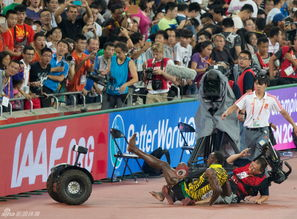10+: (1, 1, 297, 210)
down: (122, 127, 236, 208), (146, 145, 274, 208)
